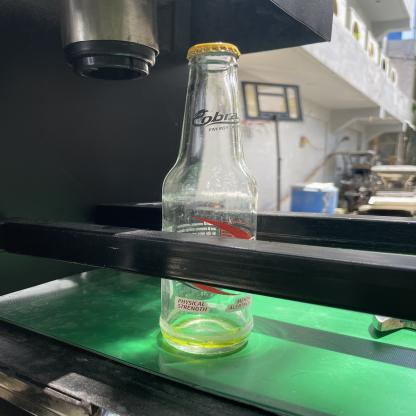Can: (152, 38, 259, 362)
